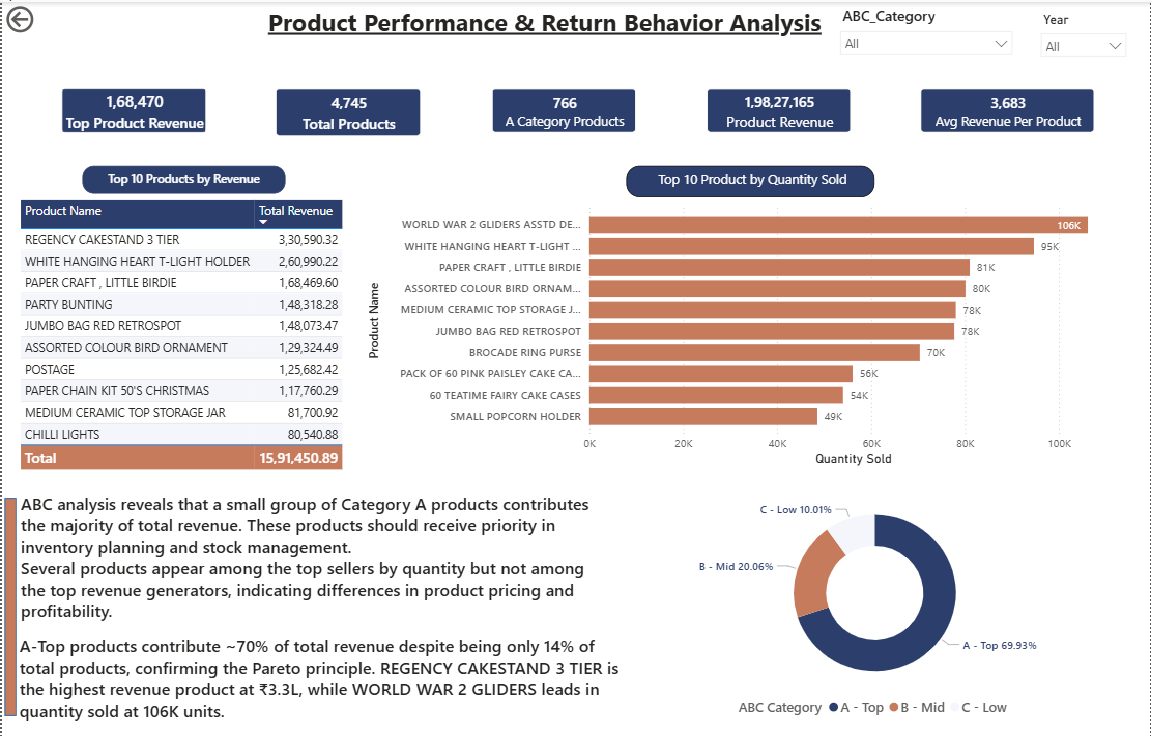

What the dashboard file says about the page in this screenshot:
{"tool":"powerbi","page":{"name":"Product Analysis","canvas":[1280,850],"ordinal":1},"visuals":[{"type":"textbox","box":[292.1,0,695.8,58.7],"z":0},{"type":"tableEx","fields":{"Values":["online_retail_project abc_analysis.Description","Sum(online_retail_project sales_data.Total Revenue)"]},"box":[14.4,223.8,376.8,337.8],"z":1000},{"type":"clusteredBarChart","fields":{"Category":["online_retail_project sales_data.Description"],"Y":["Sum(online_retail_project sales_data.Quantity Sold)"]},"box":[404.2,225.2,859,316.2],"z":2000},{"type":"textbox","box":[695.8,189.1,277.2,36.1],"z":3000},{"type":"textbox","box":[89.5,189.1,226.6,31.8],"z":4000},{"type":"donutChart","fields":{"Category":["online_retail_project abc_analysis.ABC_Category"],"Y":["online_retail_project sales_data.Total_Revenue"]},"box":[695.8,561.6,554.4,272.8],"z":5000},{"type":"cardVisual","fields":{"Data":["online_retail_project abc_analysis.Top Product Revenue"]},"box":[57.7,90.9,179,69.3],"z":6000},{"type":"cardVisual","fields":{"Data":["online_retail_project abc_analysis.A Category Products"]},"box":[537,90.9,179,69.3],"z":7000},{"type":"cardVisual","fields":{"Data":["online_retail_project abc_analysis.Product Revenue"]},"box":[775.9,90.9,179,69.3],"z":8000},{"type":"cardVisual","fields":{"Data":["online_retail_project abc_analysis.Total Products"]},"box":[296.7,90.9,180.5,73.6],"z":9000},{"type":"cardVisual","fields":{"Data":["online_retail_project abc_analysis.Avg Revenue Per Product"]},"box":[1014.9,90.9,212.2,69.3],"z":10000},{"type":"textbox","box":[14.4,726.1,681.4,124.2],"z":11000},{"type":"slicer","fields":{"Values":["online_retail_project abc_analysis.ABC_Category"]},"box":[923.9,0,212.2,76.5],"z":12000},{"type":"slicer","fields":{"Values":["online_retail_project sales_data.Year"]},"box":[1147.7,7.2,115.5,65],"z":13000},{"type":"actionButton","box":[0,0,100,40],"z":14000},{"type":"textbox","box":[15.9,561.6,649.6,164.6],"z":15000},{"type":"shape","box":[2.9,573.1,13,251.2],"z":16000}]}

Visuals, with their boxes on the page's 1280x850 design canvas (x1, y1, x2, y2). These are canvas units, not pixel positions in the 1152x739 screenshot, which may show the page scaled, cropped or inside an application window:
textbox: [292, 0, 988, 59]
tableEx - online_retail_project abc_analysis.Description x Sum(online_retail_project sales_data.Total Revenue): [14, 224, 391, 562]
clusteredBarChart - online_retail_project sales_data.Description x Sum(online_retail_project sales_data.Quantity Sold): [404, 225, 1263, 541]
textbox: [696, 189, 973, 225]
textbox: [90, 189, 316, 221]
donutChart - online_retail_project abc_analysis.ABC_Category x online_retail_project sales_data.Total_Revenue: [696, 562, 1250, 834]
cardVisual - online_retail_project abc_analysis.Top Product Revenue: [58, 91, 237, 160]
cardVisual - online_retail_project abc_analysis.A Category Products: [537, 91, 716, 160]
cardVisual - online_retail_project abc_analysis.Product Revenue: [776, 91, 955, 160]
cardVisual - online_retail_project abc_analysis.Total Products: [297, 91, 477, 164]
cardVisual - online_retail_project abc_analysis.Avg Revenue Per Product: [1015, 91, 1227, 160]
textbox: [14, 726, 696, 850]
slicer - online_retail_project abc_analysis.ABC_Category: [924, 0, 1136, 76]
slicer - online_retail_project sales_data.Year: [1148, 7, 1263, 72]
actionButton: [0, 0, 100, 40]
textbox: [16, 562, 666, 726]
shape: [3, 573, 16, 824]
